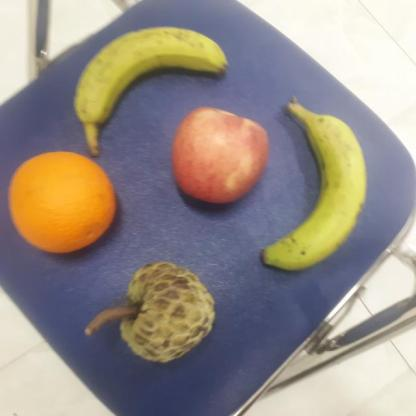annona: (117, 262, 216, 366)
apple: (170, 106, 271, 208)
banana: (260, 98, 368, 272), (69, 25, 229, 130)
orange: (6, 146, 119, 257)
